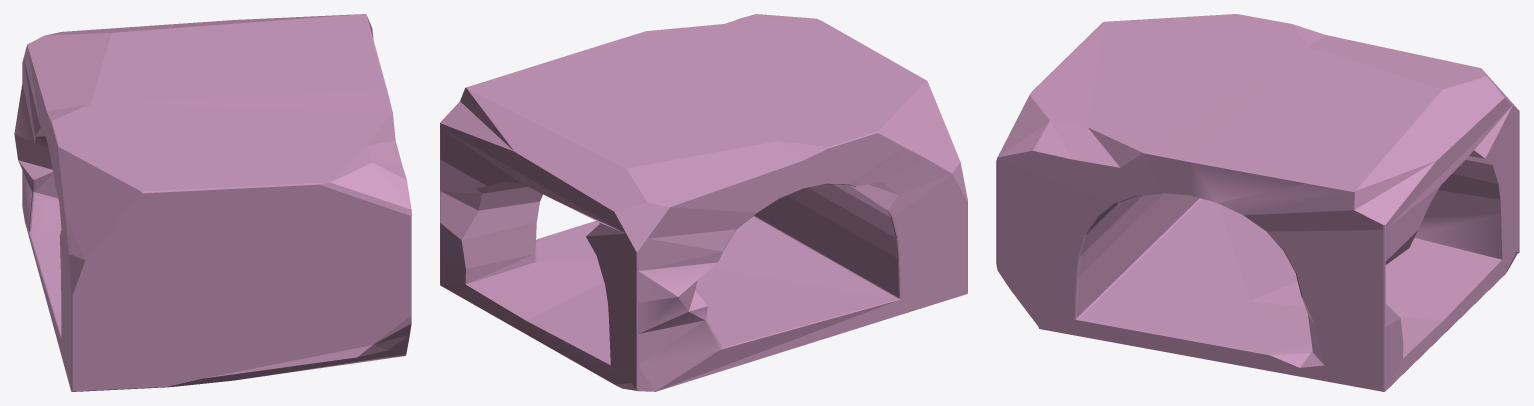
The model's file is kocia_chatka_dwa_drzwi_splaszczona 1.fbx.
3 views of the same model, side by side, from view 1: azimuth 30°, elevation 25°; view 2: azimuth 150°, elevation 25°; view 3: azimuth 270°, elevation 25° (orthographic). The views are drawn at different scales.
Visible parts, largest first — view 1: kocia_chatka_dwa_drzwi_splaszczona; view 2: kocia_chatka_dwa_drzwi_splaszczona; view 3: kocia_chatka_dwa_drzwi_splaszczona.
Part boxes in pixels (x1=…): kocia_chatka_dwa_drzwi_splaszczona: x1=14, y1=14, x2=411, y2=391; kocia_chatka_dwa_drzwi_splaszczona: x1=440, y1=14, x2=967, y2=391; kocia_chatka_dwa_drzwi_splaszczona: x1=996, y1=14, x2=1519, y2=391.
Bounding box in the file's own units: 445 × 200 × 486.
